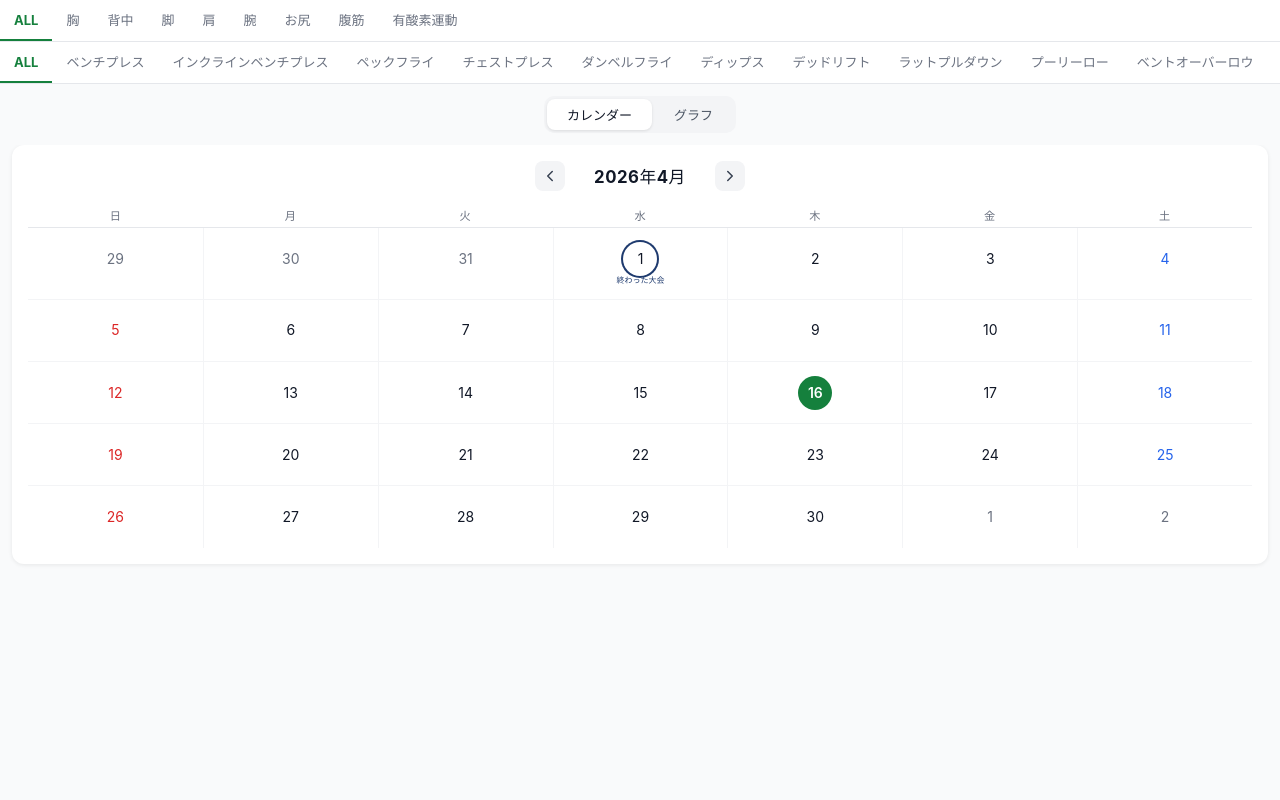
HistoryPage — 日付を押したとき › 過ぎた大会の日も、記録が無くてもポップアップを開く
Click the button "1 終わった大会": (640,263) [553,228,728,299]
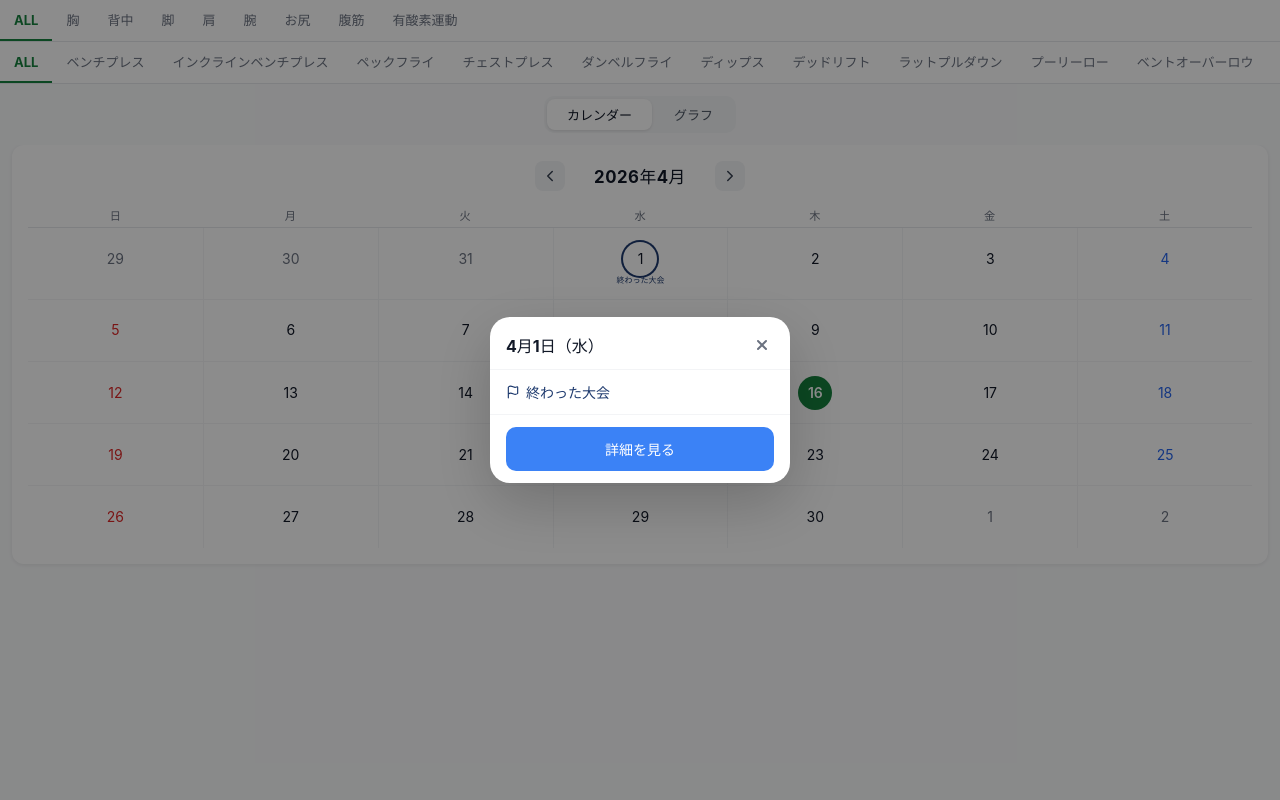
Check: the element with test id "popup-overlay" is shown
